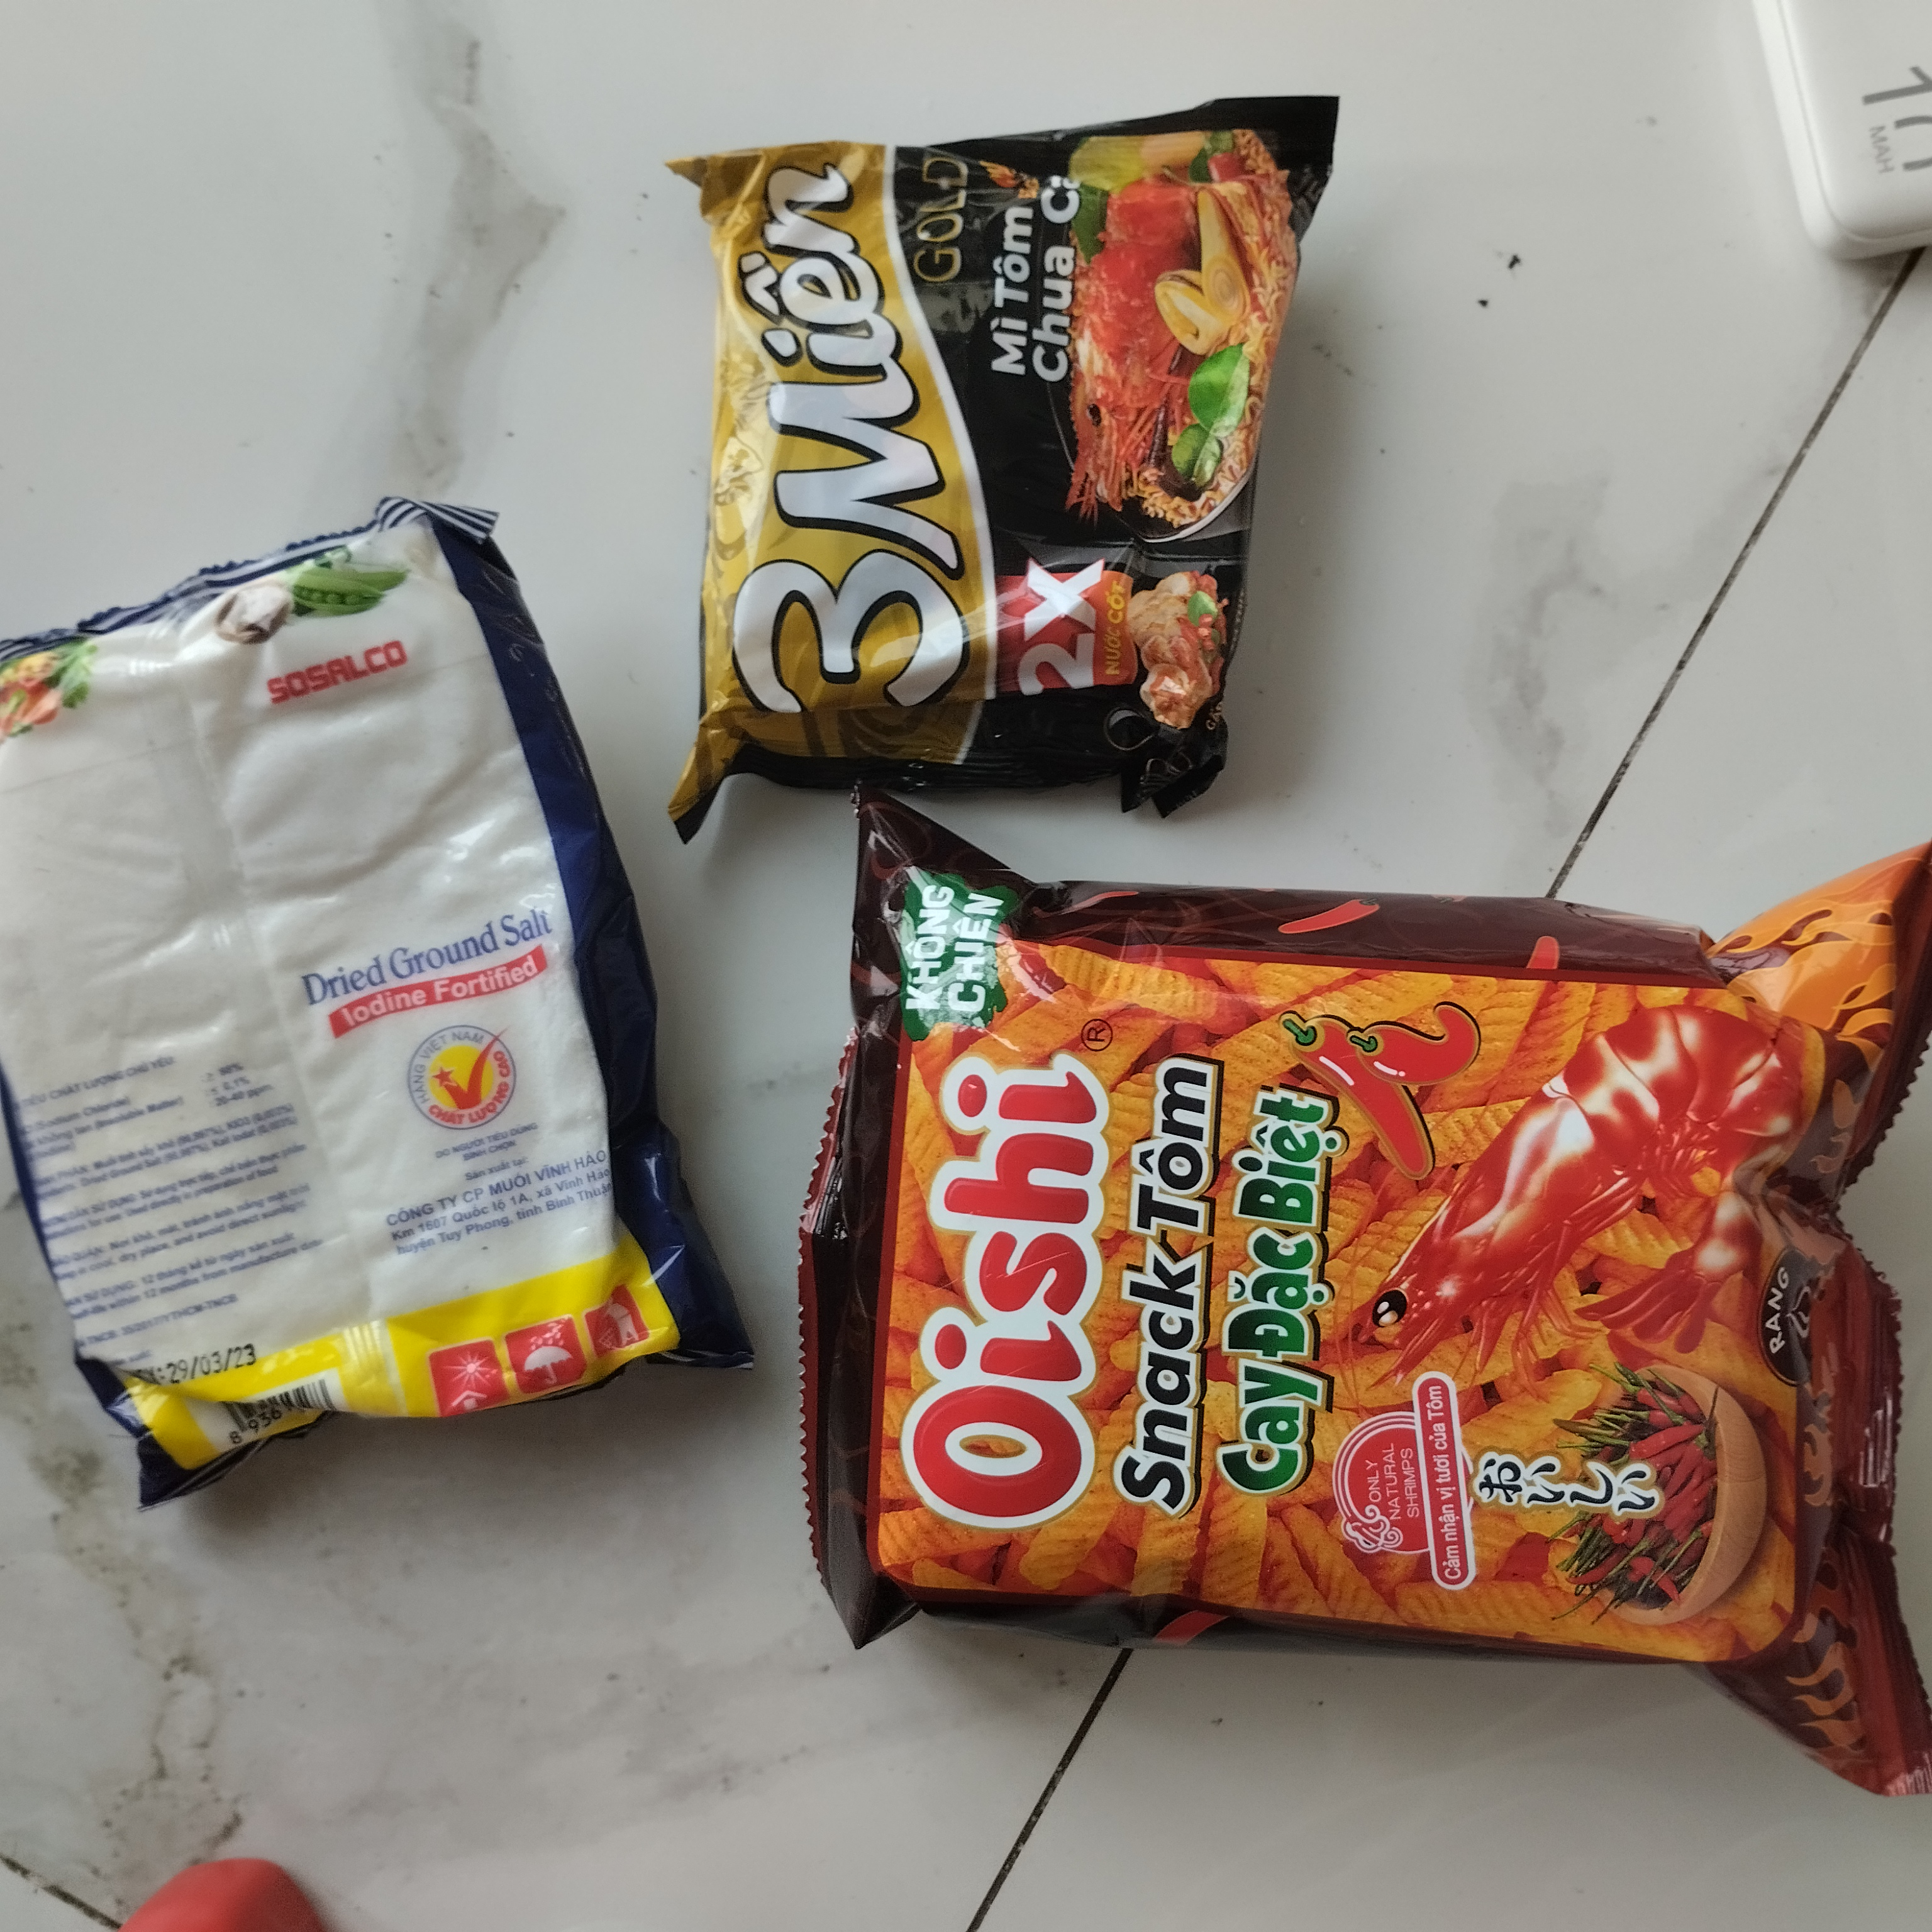3mien: (648, 83, 1359, 863)
Oishi_Cay: (784, 780, 1932, 1817)
Salt: (2, 495, 750, 1520)
